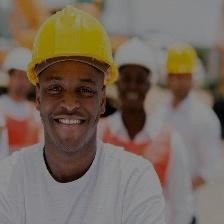Person: (5, 4, 149, 222)
helmet: (24, 4, 120, 88)
no-vest: (1, 139, 165, 224)
